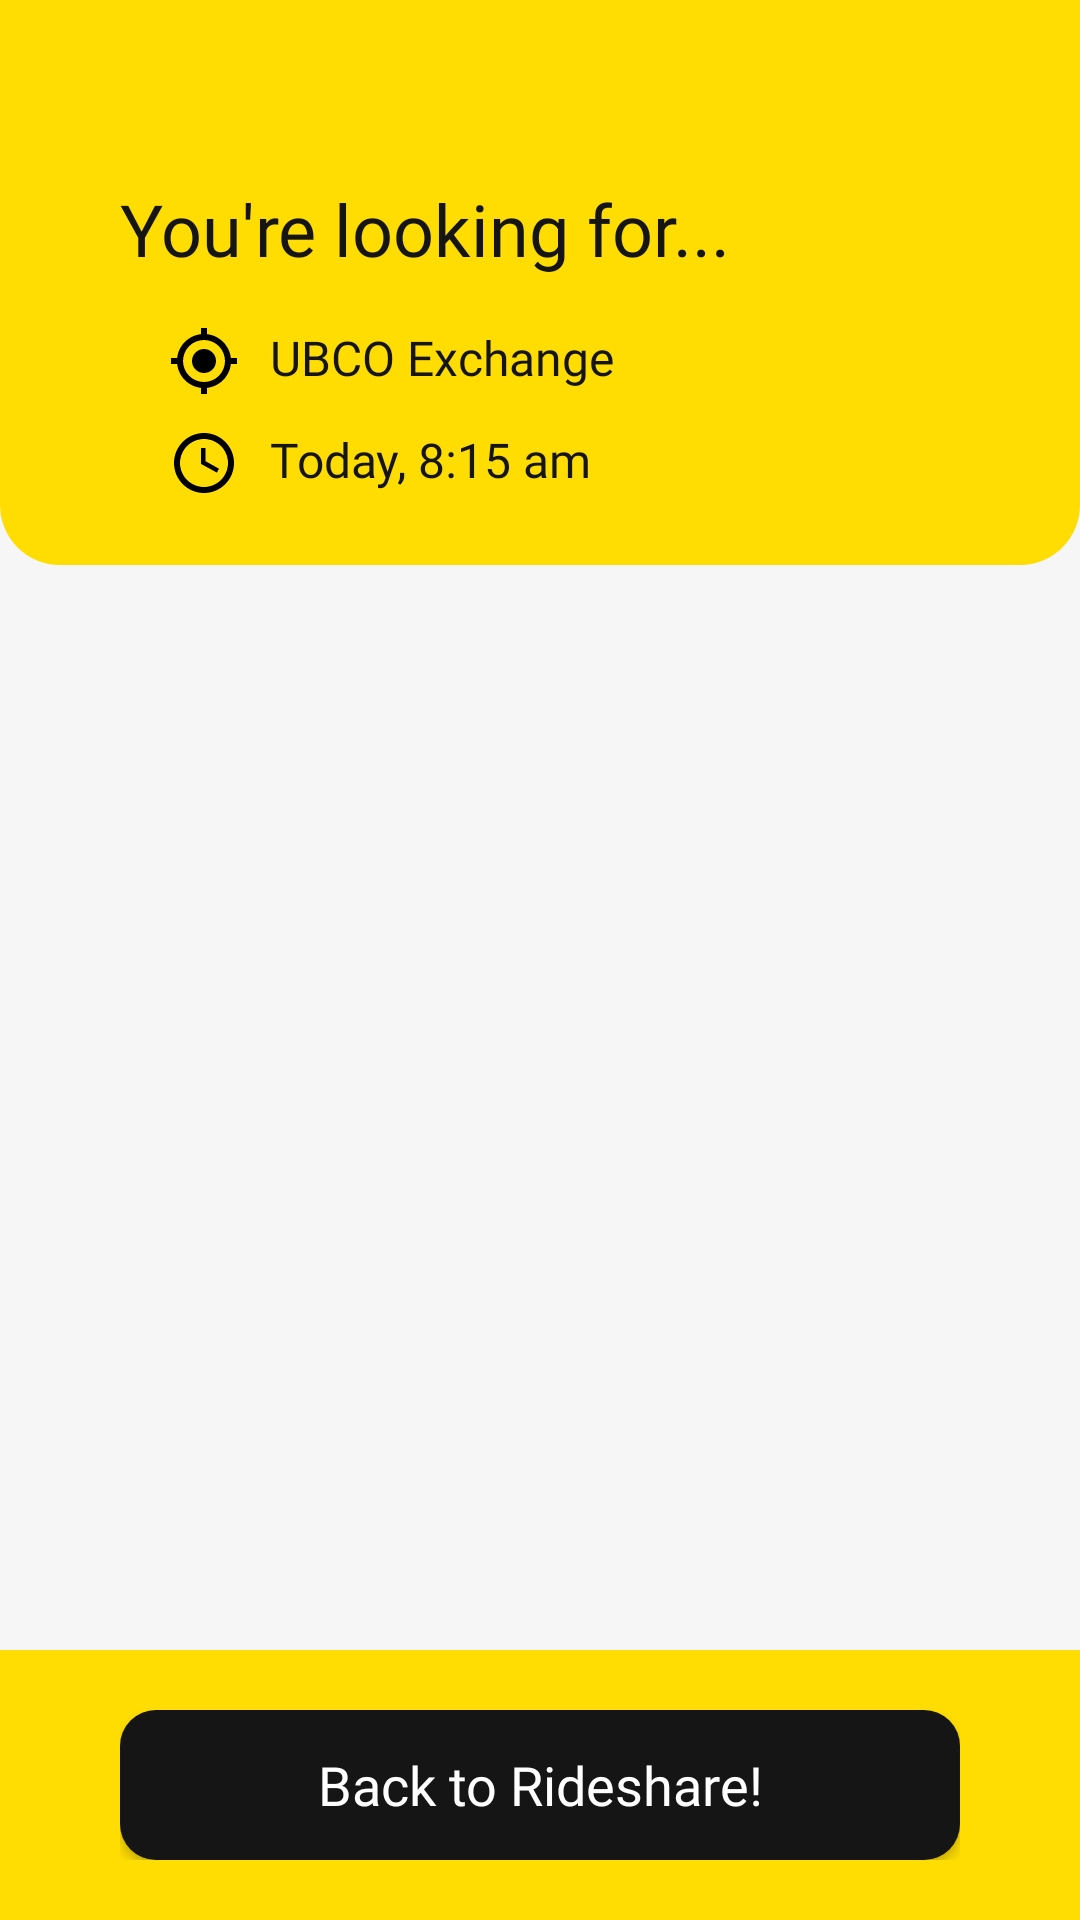

Screen size 1080w x 1920h. Icon name, then its box in pixels as box(x1, y1, x2, y2):
clock: box(174, 433, 234, 493)
target: box(171, 328, 237, 394)
